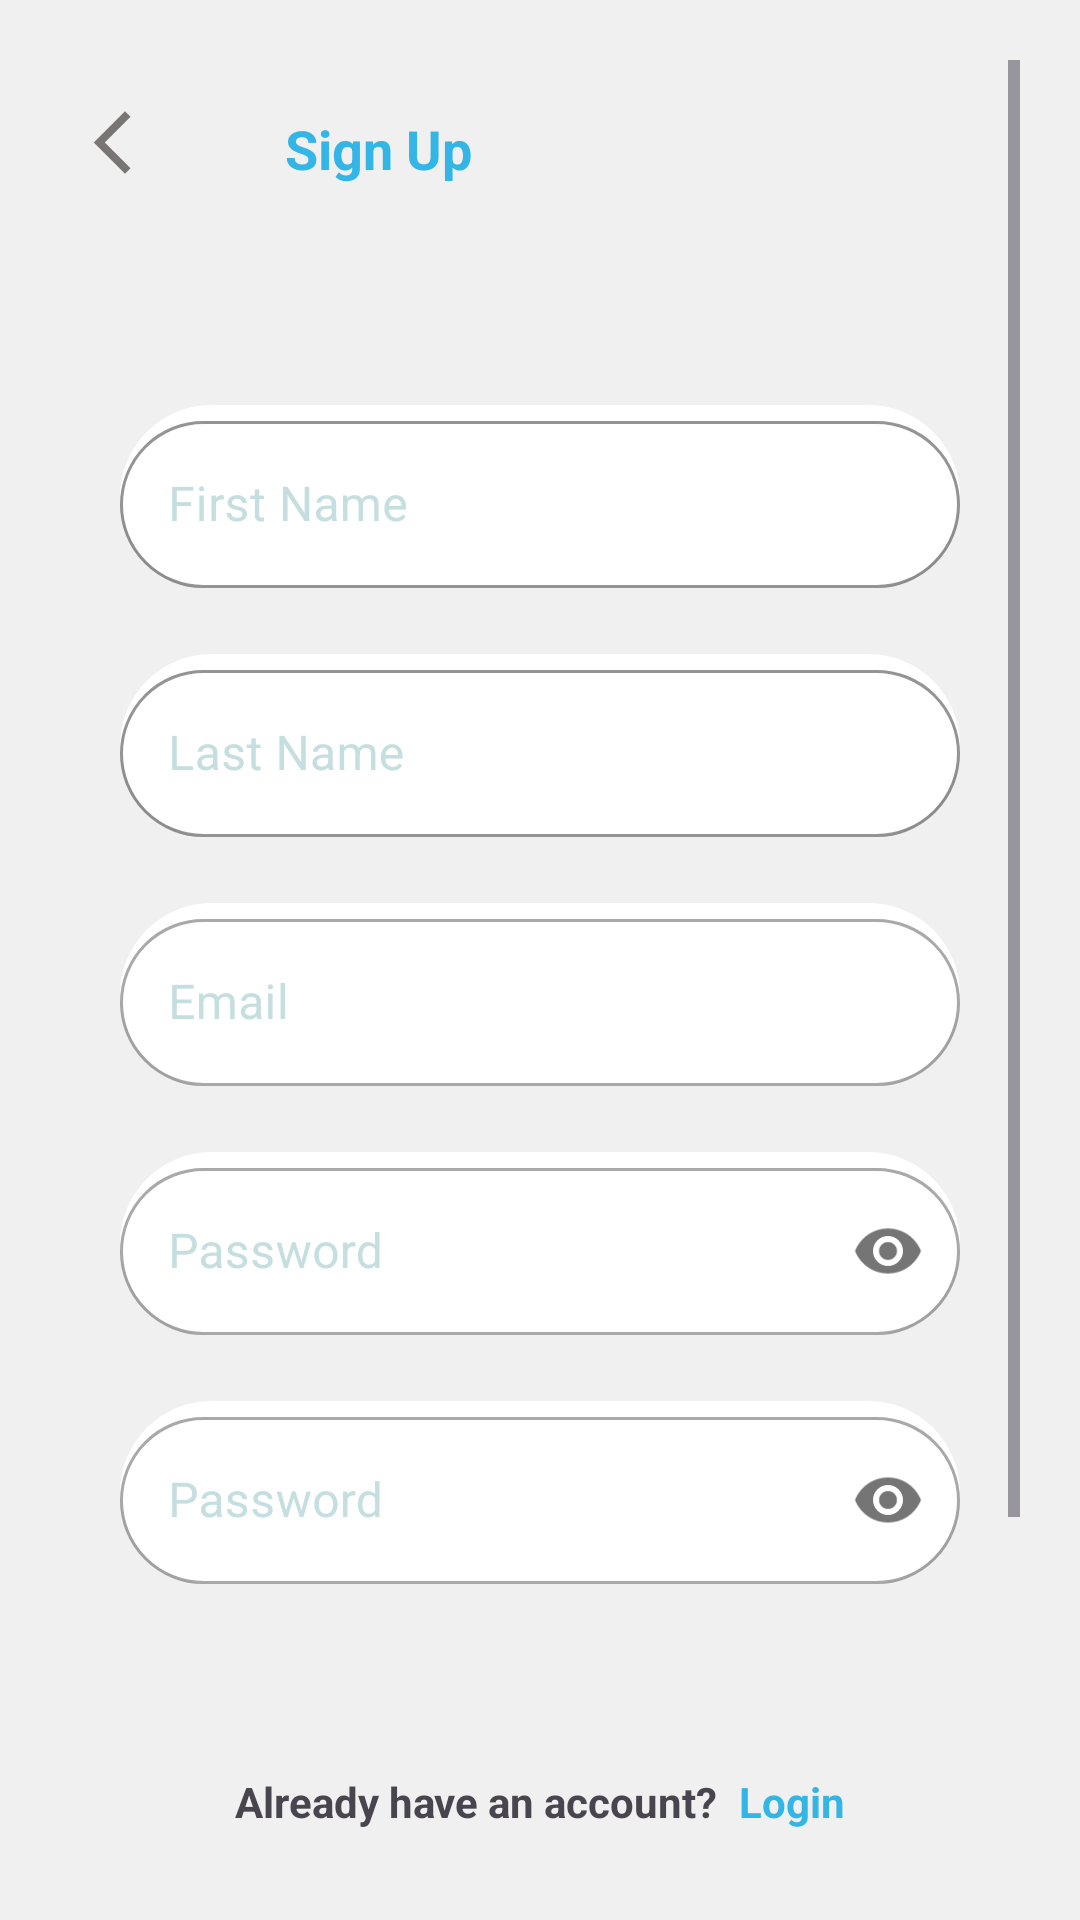

Icons on this 1080 × 1920 Android screen, each with its box as detection(x1, y1, x2, y2):
arrow back: detection(94, 111, 131, 174)
